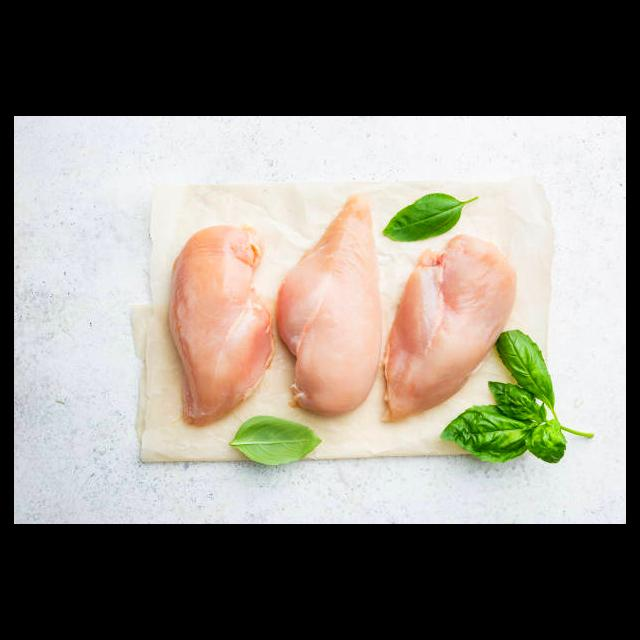chicken: (384, 237, 521, 423), (273, 192, 382, 418), (167, 223, 277, 422)
